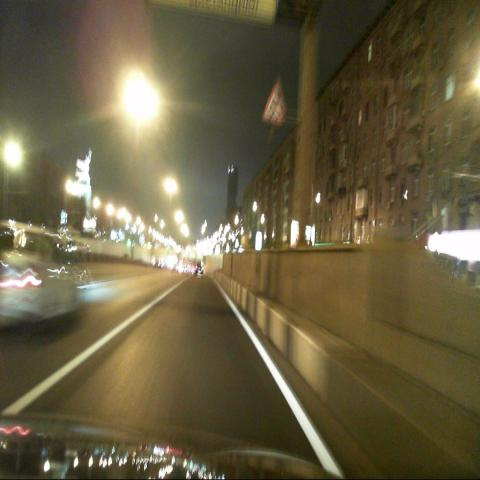1_15: (261, 84, 285, 123)
